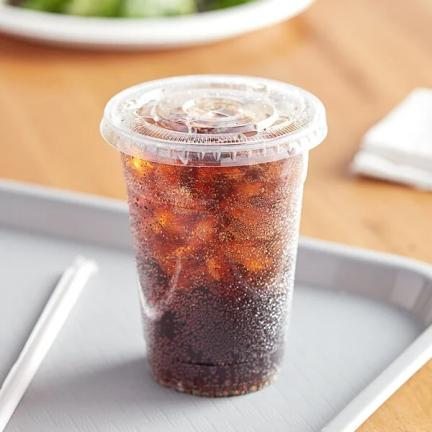container: (100, 76, 326, 397)
fluid: (122, 153, 304, 397)
fluid-surface: (119, 93, 314, 166)
